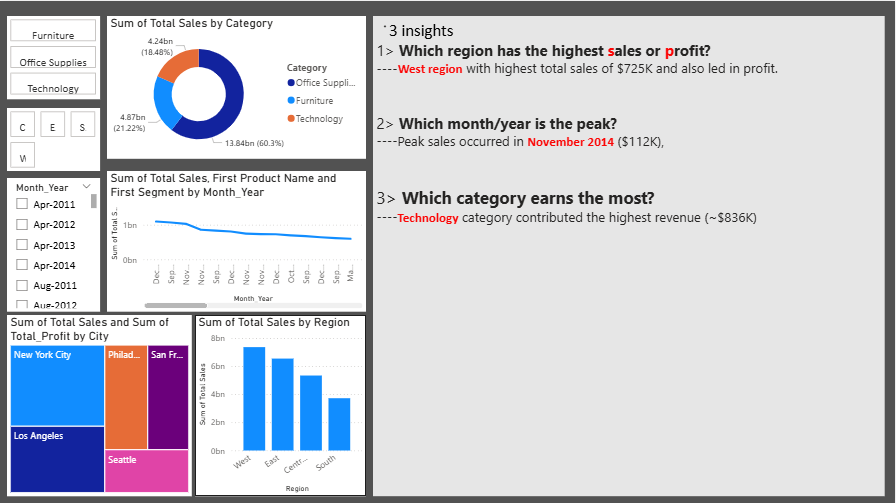

The page's visual inventory and layout, read from the dashboard file:
{"tool":"powerbi","page":{"name":"Page 2","canvas":[1280,720],"ordinal":1},"visuals":[{"type":"lineChart","fields":{"Category":["store_Transform.Month_Year"],"Y":["Sum(store_Transform.Total Sales)"]},"box":[154.3,242.9,370,201.4],"z":0},{"type":"donutChart","fields":{"Category":["store_Transform.Category"],"Y":["Sum(store_Transform.Total Sales)"]},"box":[154.3,21.4,370,204.3],"z":1000},{"type":"columnChart","fields":{"Category":["store_Transform.Region"],"Y":["Sum(store_Transform.Total Sales)"]},"box":[280,448.6,244.3,258.6],"z":2000},{"type":"advancedSlicerVisual","fields":{"Values":["store_Transform.Region"]},"box":[11.4,152.9,132.9,90],"z":3000},{"type":"advancedSlicerVisual","fields":{"Values":["store_Transform.Category"]},"box":[11.4,21.4,132.9,118.6],"z":4000},{"type":"treemap","fields":{"Group":["store_Transform.City"],"Values":["Sum(store_Transform.Total Sales)"]},"box":[11.4,448.6,264.3,258.6],"z":5000},{"type":"slicer","fields":{"Values":["store_Transform.Month_Year"]},"box":[11.4,252.9,132.9,191.4],"z":6000},{"type":"textbox","box":[534.3,21.4,731.4,685.7],"z":6001}]}

Visuals, with their boxes in screenshot pixels (x1, y1, x2, y2), scaled from the page's 1280x720 canvas onto the 896x503 screenshot:
lineChart - store_Transform.Month_Year x Sum(store_Transform.Total Sales): 108,170,367,310
donutChart - store_Transform.Category x Sum(store_Transform.Total Sales): 108,15,367,158
columnChart - store_Transform.Region x Sum(store_Transform.Total Sales): 196,313,367,494
advancedSlicerVisual - store_Transform.Region: 8,107,101,170
advancedSlicerVisual - store_Transform.Category: 8,15,101,98
treemap - store_Transform.City x Sum(store_Transform.Total Sales): 8,313,193,494
slicer - store_Transform.Month_Year: 8,177,101,310
textbox: 374,15,886,494
